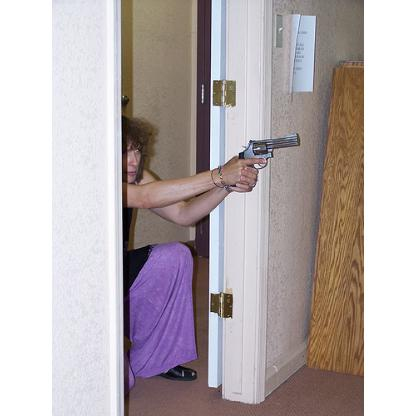gun: (236, 132, 302, 180)
